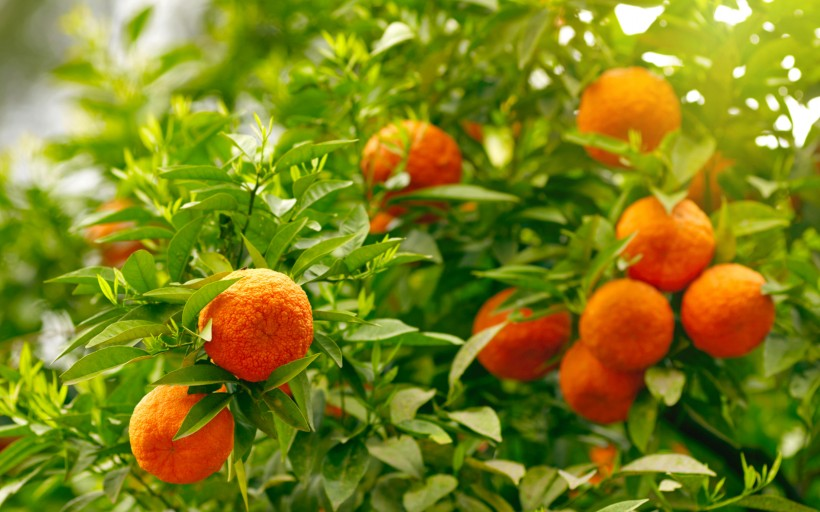orange: (193, 267, 312, 382), (574, 64, 680, 169), (130, 381, 235, 482), (615, 194, 716, 290), (361, 121, 463, 214), (474, 287, 571, 380), (580, 279, 673, 374), (683, 262, 776, 357), (560, 334, 642, 423)
